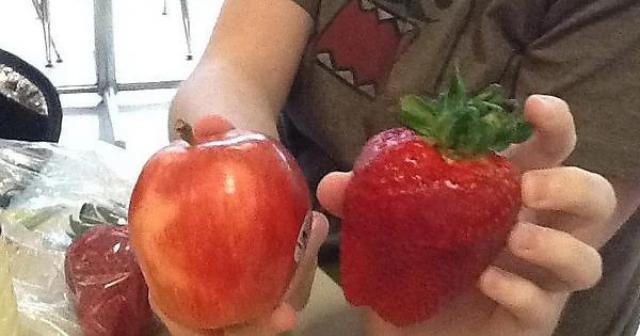Strawberries: (338, 98, 520, 328), (62, 206, 148, 336)
